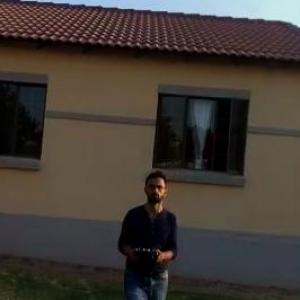follow: (112, 163, 182, 299)
